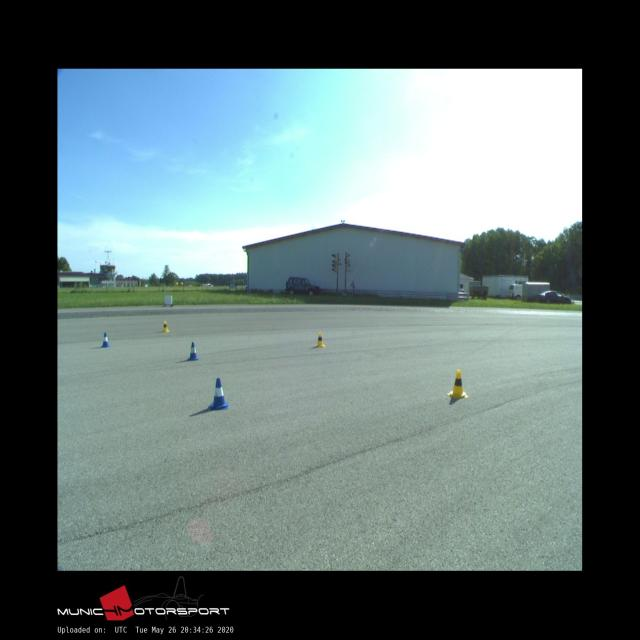blue_cone: (208, 378, 229, 409), (187, 343, 199, 360), (100, 333, 110, 346)
yellow_cone: (447, 369, 469, 398), (315, 332, 325, 347), (162, 321, 170, 331)
